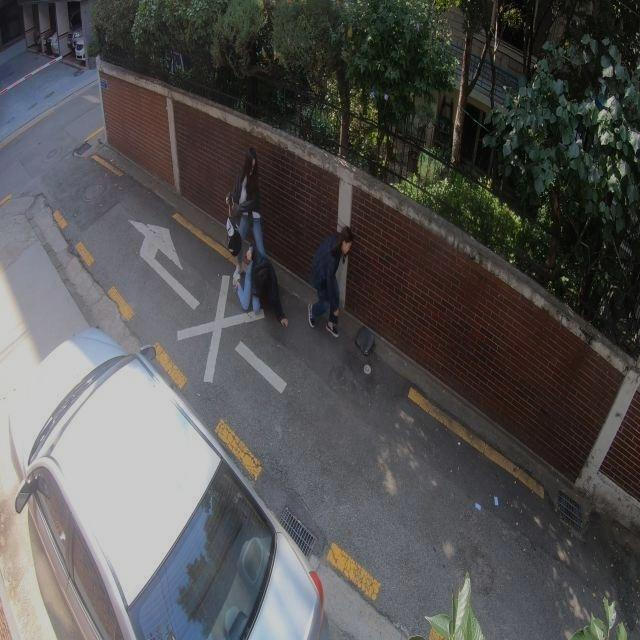fight: (220, 151, 292, 328)
non-fight: (304, 225, 358, 343)
